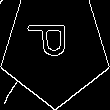P_E: (31, 31, 79, 67)
